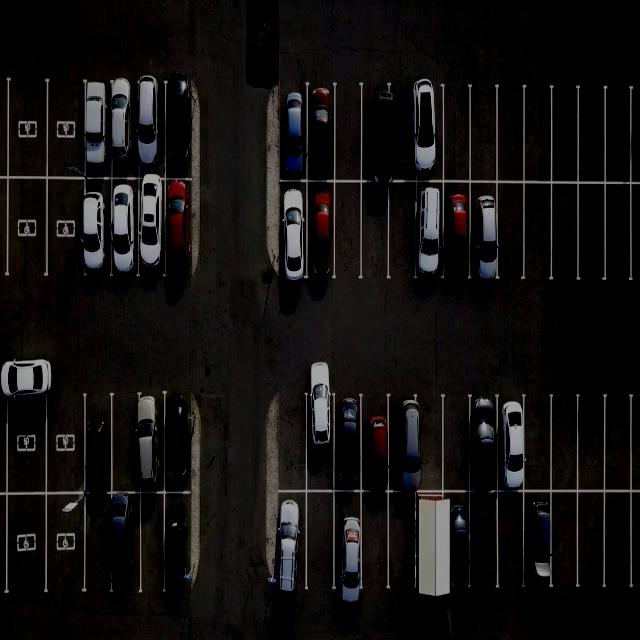empty: (4, 378, 47, 497), (45, 388, 89, 496), (2, 494, 46, 596), (46, 494, 89, 596), (4, 176, 45, 282), (46, 176, 85, 283), (6, 74, 45, 178), (411, 492, 448, 600), (46, 80, 86, 179), (304, 490, 340, 599), (492, 486, 528, 591), (356, 492, 392, 597), (546, 490, 582, 592), (571, 491, 607, 592), (110, 392, 146, 493), (384, 182, 419, 282), (604, 180, 637, 286), (604, 490, 638, 592), (331, 183, 365, 284), (333, 82, 367, 182), (136, 493, 168, 597), (494, 182, 527, 282), (574, 396, 608, 493), (574, 182, 606, 284), (80, 494, 112, 596), (357, 183, 390, 281), (523, 396, 557, 491), (438, 397, 472, 492), (548, 394, 582, 489), (524, 182, 556, 282), (549, 181, 581, 281), (385, 493, 417, 593), (604, 394, 636, 492), (438, 89, 471, 184), (414, 397, 446, 492), (524, 90, 556, 184), (493, 89, 525, 183), (574, 88, 606, 182), (469, 88, 500, 184), (549, 87, 580, 182), (606, 87, 636, 182)
occupied: (270, 490, 311, 600), (434, 492, 472, 603), (467, 491, 504, 599), (331, 486, 367, 596), (127, 392, 166, 493), (163, 492, 200, 597), (360, 82, 399, 181), (110, 493, 146, 598), (162, 177, 200, 276), (523, 486, 558, 588), (466, 398, 503, 494), (468, 180, 502, 284), (410, 86, 446, 184), (358, 394, 394, 492), (390, 395, 426, 493), (80, 392, 114, 495), (302, 388, 336, 491), (134, 176, 168, 279), (162, 392, 197, 492), (77, 176, 110, 282), (306, 84, 340, 186), (414, 181, 448, 283), (437, 182, 471, 284), (303, 180, 336, 285), (332, 391, 366, 490), (493, 396, 528, 491), (280, 178, 310, 288), (107, 176, 139, 272), (133, 81, 164, 179), (165, 82, 196, 178), (82, 82, 111, 178), (282, 85, 310, 183), (111, 83, 138, 180)
